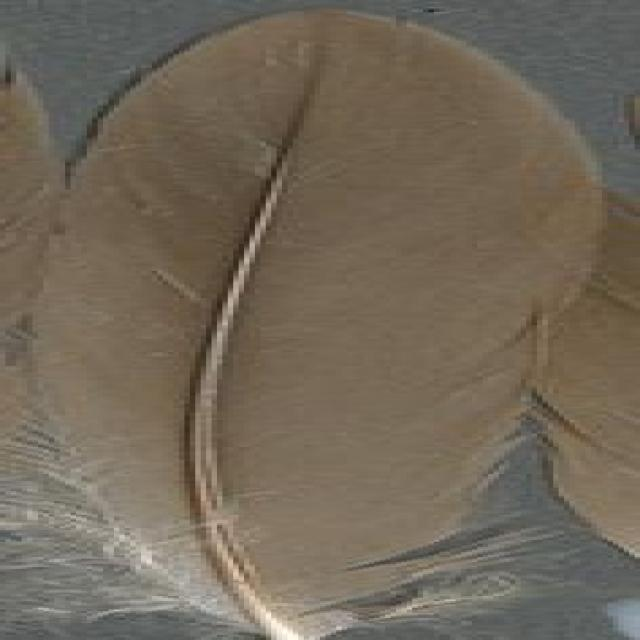feather: (44, 7, 571, 640)
